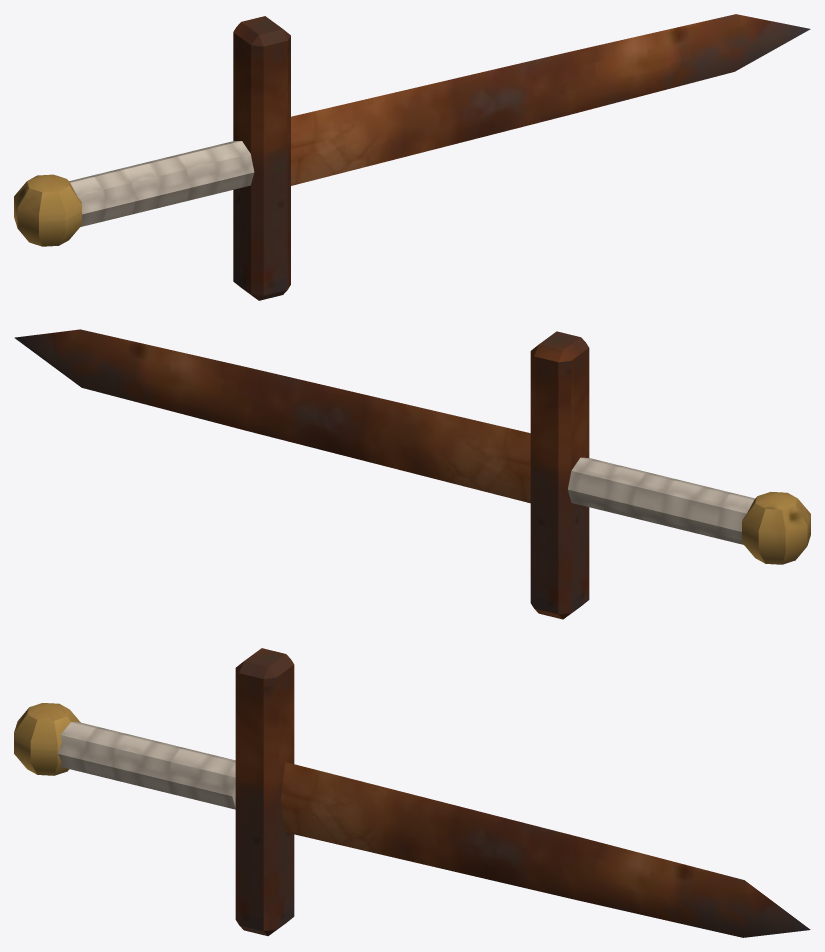
File: Sword_Broken.glb
3 views of the same model, one above another, from view 1: azimuth 30°, elevation 25°; view 2: azimuth 150°, elevation 25°; view 3: azimuth 330°, elevation 25° (orthographic).
Parts seen in each view (by area): view 1: Sword_Broken; view 2: Sword_Broken; view 3: Sword_Broken.
Part boxes in pixels (<box>): Sword_Broken: <box>14,14,810,300</box>; Sword_Broken: <box>14,329,810,619</box>; Sword_Broken: <box>14,648,810,937</box>.
Bounding box in the file's own units: 0.5896 × 0.19 × 0.0457.
Materials: 4 (4 with a texture image).
